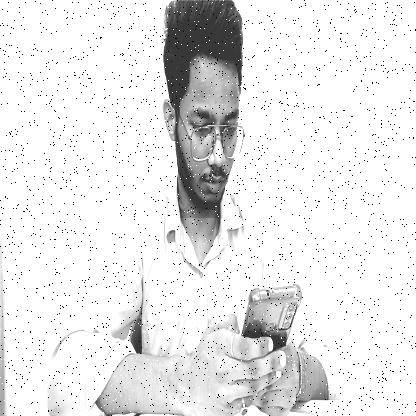Distracted: (164, 1, 248, 218)
